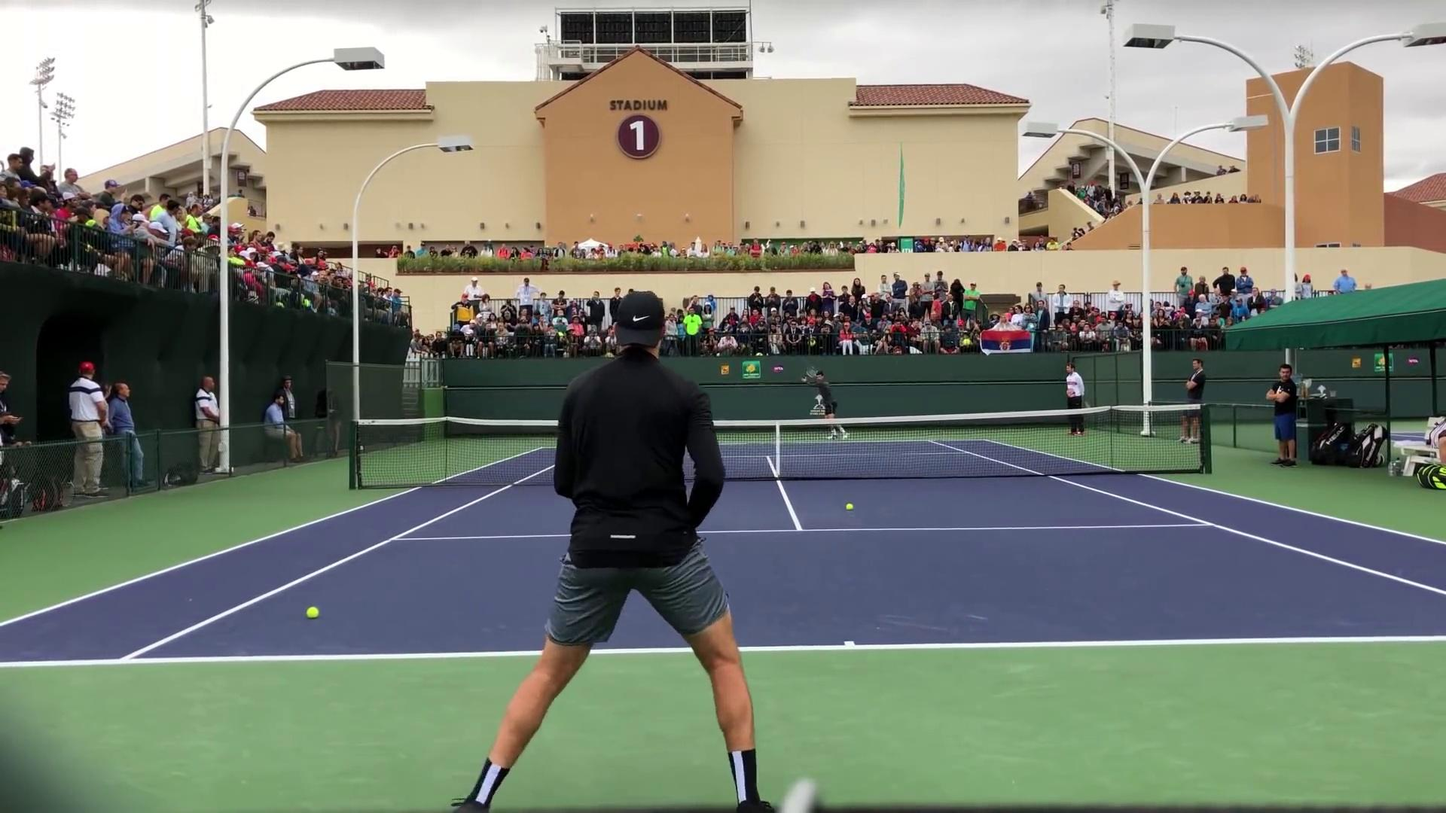ball: (305, 606, 319, 620), (844, 502, 854, 509), (1165, 200, 1169, 205)
